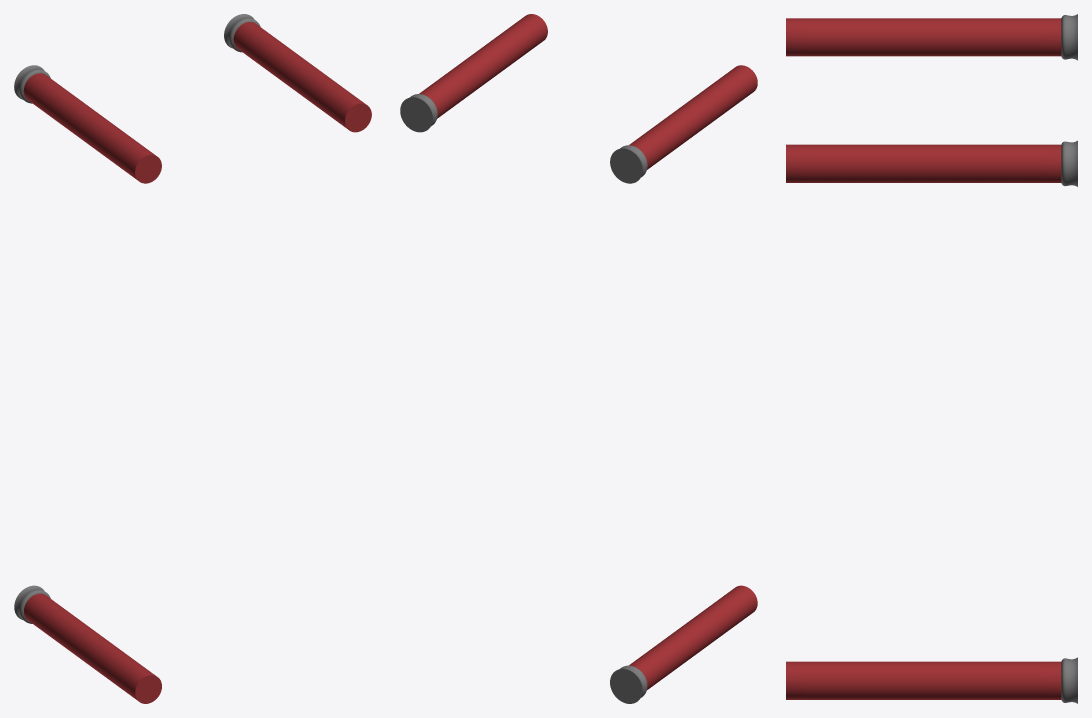
The model's file is Result.fbx.
3 renders of one model, left to right at view 1: azimuth 30°, elevation 25°; view 2: azimuth 150°, elevation 25°; view 3: azimuth 270°, elevation 25°, orthographic. The views are drawn at different scales.
Parts seen in each view (by area): view 1: column1 (×6); view 2: column1 (×5); view 3: column1 (×5).
Part boxes in pixels (x1=…): column1 (×6): x1=14, y1=14, x2=371, y2=703; column1 (×5): x1=400, y1=14, x2=757, y2=703; column1 (×5): x1=786, y1=14, x2=1077, y2=703.
Bounding box in the file's own units: 3.62 × 7.9 × 3.05.
